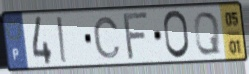4: (31, 14, 54, 67)
C: (92, 15, 123, 60)
F: (122, 10, 151, 63)
I: (55, 15, 69, 64)
O: (162, 9, 192, 61)
Q: (192, 10, 222, 57)
